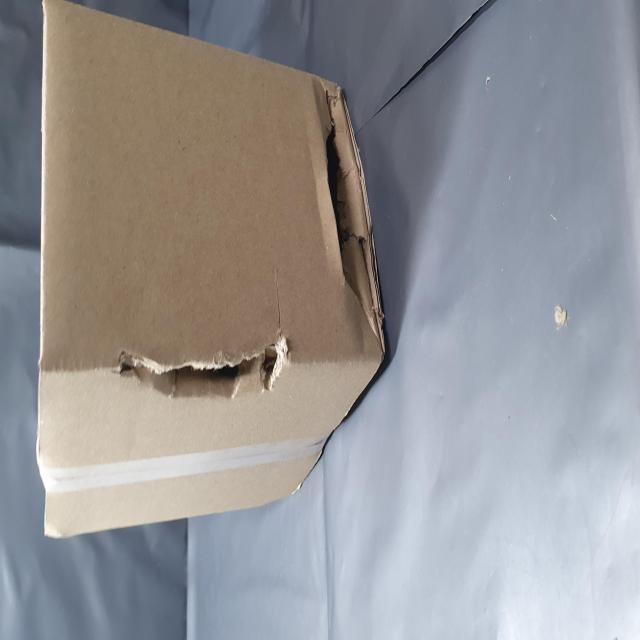damaged: (128, 210, 178, 518), (175, 563, 315, 640)
